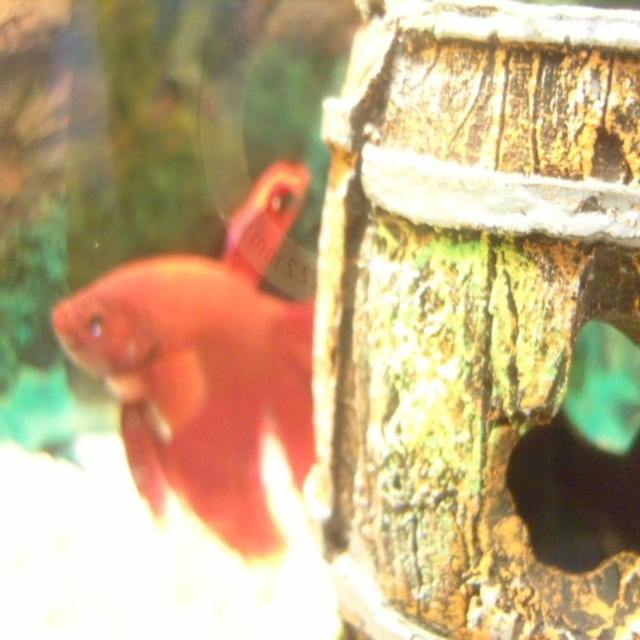Goldfish: (42, 204, 322, 566)
